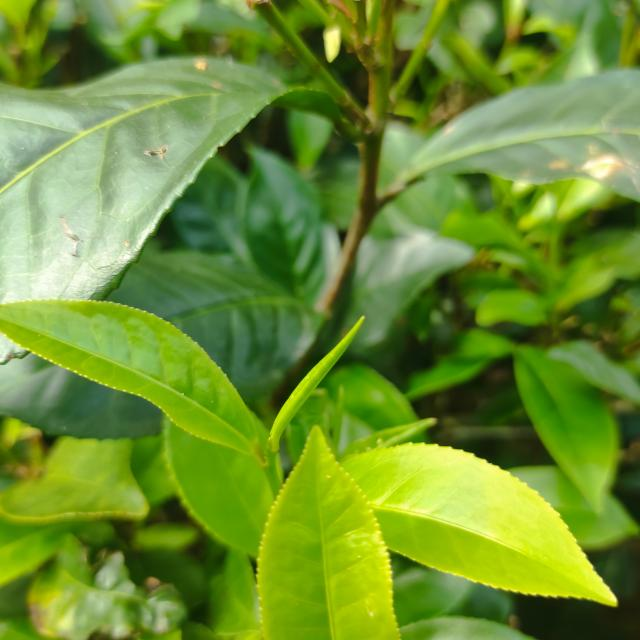unopened_leaf: (256, 310, 372, 458)
